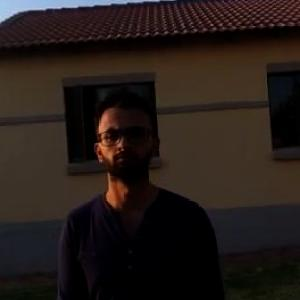follow: (51, 77, 234, 299)
